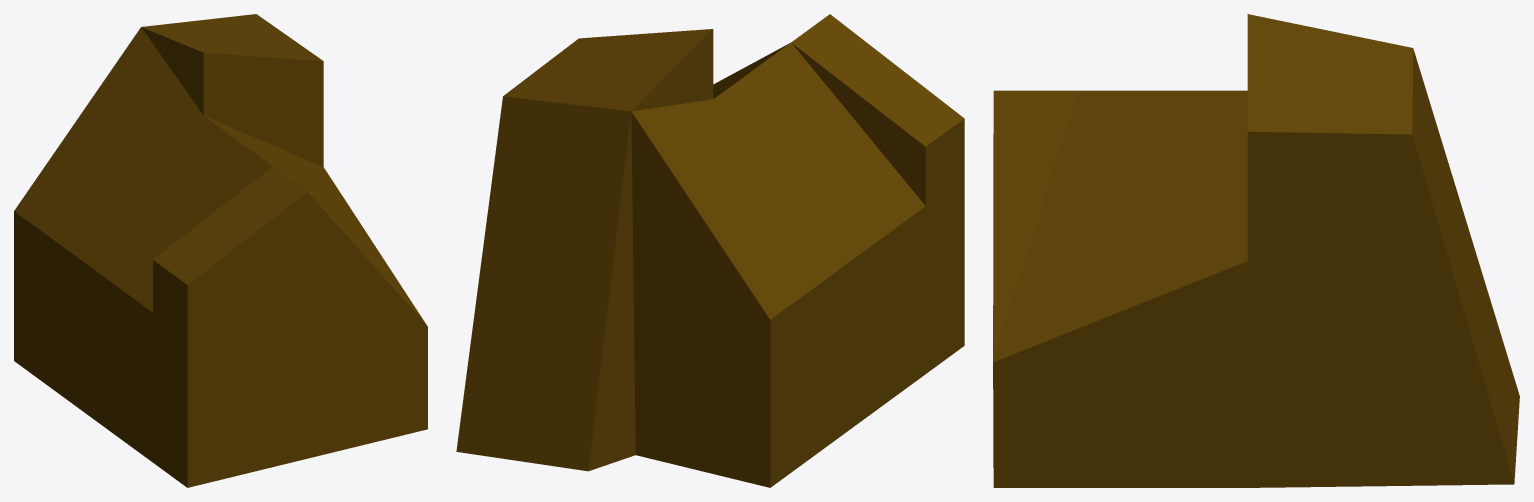
The model's file is Metal.fbx.
The picture shows the model from 3 angles, left to right: view 1: azimuth 30°, elevation 25°; view 2: azimuth 150°, elevation 25°; view 3: azimuth 270°, elevation 25°; orthographic projection. The views are drawn at different scales.
Visible parts, largest first — view 1: Cube; view 2: Cube; view 3: Cube.
Part boxes in pixels (bbox=[...]): Cube: bbox=[14, 14, 427, 487]; Cube: bbox=[456, 14, 964, 487]; Cube: bbox=[993, 14, 1519, 487].
Bounding box in the file's own units: 400 × 525 × 622.
